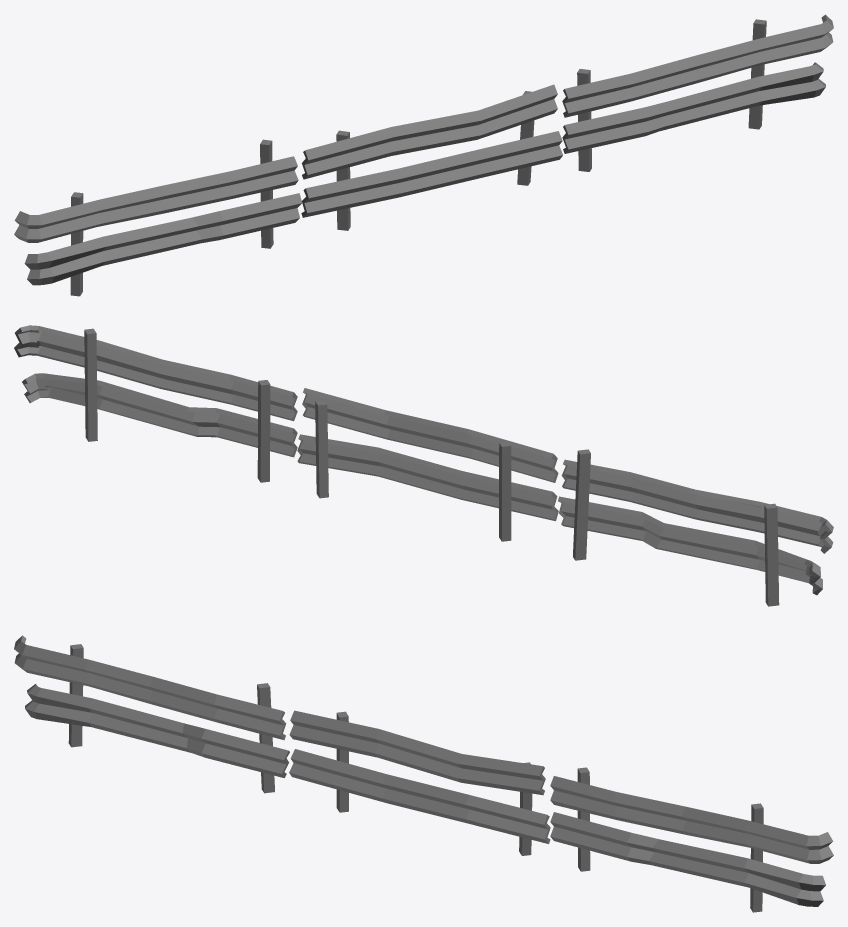
Rendered from barrier.fbx.
3 renders of one model, top to bottom at view 1: azimuth 30°, elevation 25°; view 2: azimuth 150°, elevation 25°; view 3: azimuth 330°, elevation 25°, orthographic.
Visible parts, largest first — view 1: barrier02, barrier03, barrier00; view 2: barrier03, barrier02, barrier00; view 3: barrier03, barrier02, barrier00.
Boxes of the visible parts, box(x1,y1,x2,y2) form: barrier02: box(14, 139, 301, 296); barrier03: box(562, 14, 833, 171); barrier00: box(301, 84, 562, 230); barrier03: box(14, 325, 297, 482); barrier02: box(558, 449, 833, 606); barrier00: box(297, 388, 558, 541); barrier03: box(550, 767, 833, 912); barrier02: box(14, 635, 289, 793); barrier00: box(289, 710, 550, 855).
Bounding box in the file's own units: 1722 × 213 × 58.68.
